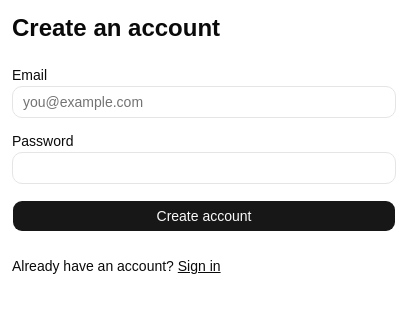
Test case: SignUpForm › shows the email-already-exists message for the SDK auth/email-already-in-use code
In the field labelled "Email": (204, 102) [12,86,396,118], type "taken@example.com"
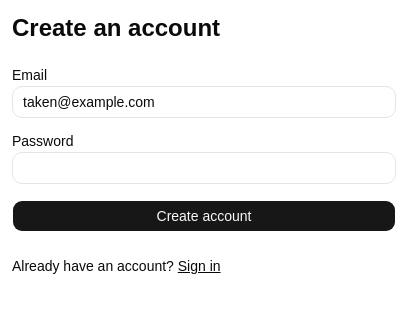
In the password field labelled "Password": (204, 168) [12,152,396,184], type "password123"
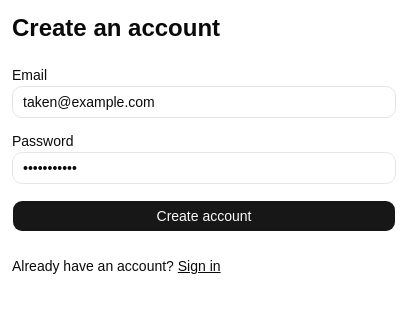
Click the button "Create account": (204, 216) [12,200,396,232]
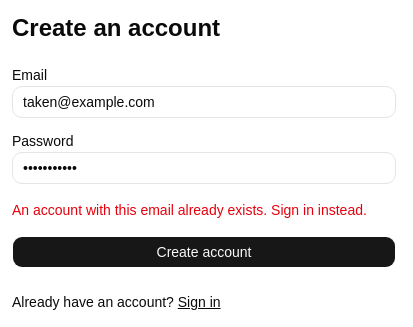
Check: the text "An account with this email already exists. Sign in instead." is shown, box [12,200,396,220]
